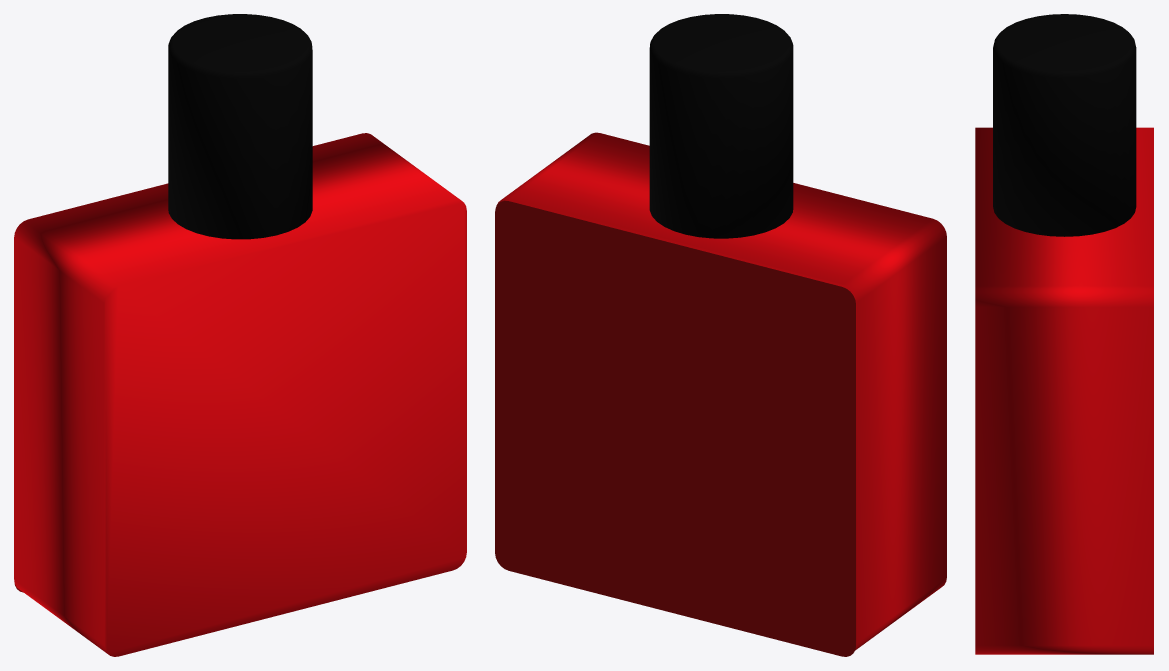
File: RedPerfume.glb
The picture shows the model from 3 angles, left to right: view 1: azimuth 30°, elevation 25°; view 2: azimuth 150°, elevation 25°; view 3: azimuth 270°, elevation 25°; orthographic projection.
Visible parts, largest first — view 1: liqud; view 2: liqud; view 3: liqud.
Part boxes in pixels (<box>): liqud: <box>14,14,466,656</box>; liqud: <box>495,14,946,656</box>; liqud: <box>975,14,1153,654</box>.
Bounding box in the file's own units: 2.79 × 3.98 × 1.21.
